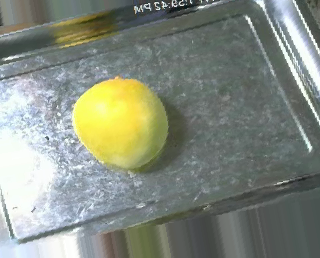Mango: (65, 70, 176, 174)
